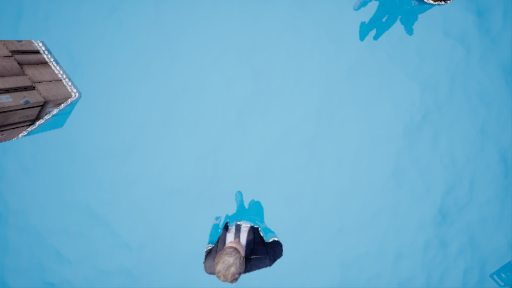person: (202, 191, 287, 281)
